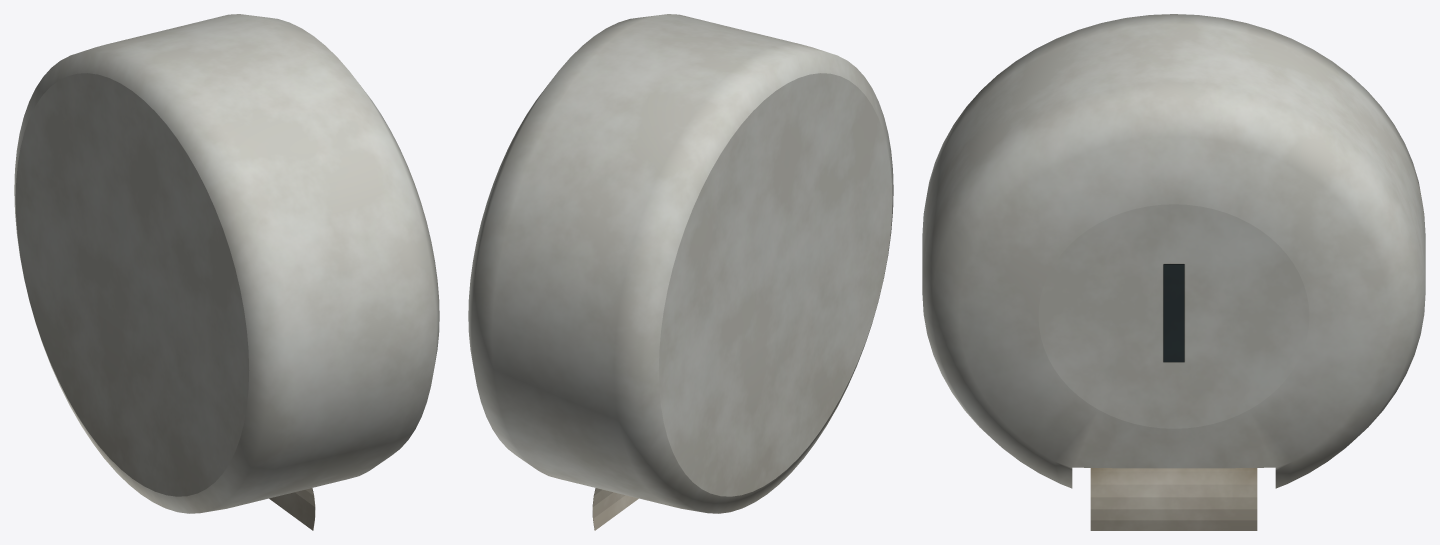
Rendered from papeleira_higienica_sujo_realista.glb.
The picture shows the model from 3 angles, left to right: view 1: azimuth 30°, elevation 25°; view 2: azimuth 150°, elevation 25°; view 3: azimuth 270°, elevation 25°; orthographic projection.
Visible parts, largest first — view 1: Papeleira_higienica; view 2: Papeleira_higienica; view 3: Papeleira_higienica.
Part boxes in pixels (x1=…): Papeleira_higienica: x1=14, y1=14, x2=439, y2=530; Papeleira_higienica: x1=468, y1=14, x2=893, y2=530; Papeleira_higienica: x1=922, y1=14, x2=1425, y2=530.
Size of the model in its own units: 0.12 by 0.26 by 0.26.
1 material, 1 textured.
